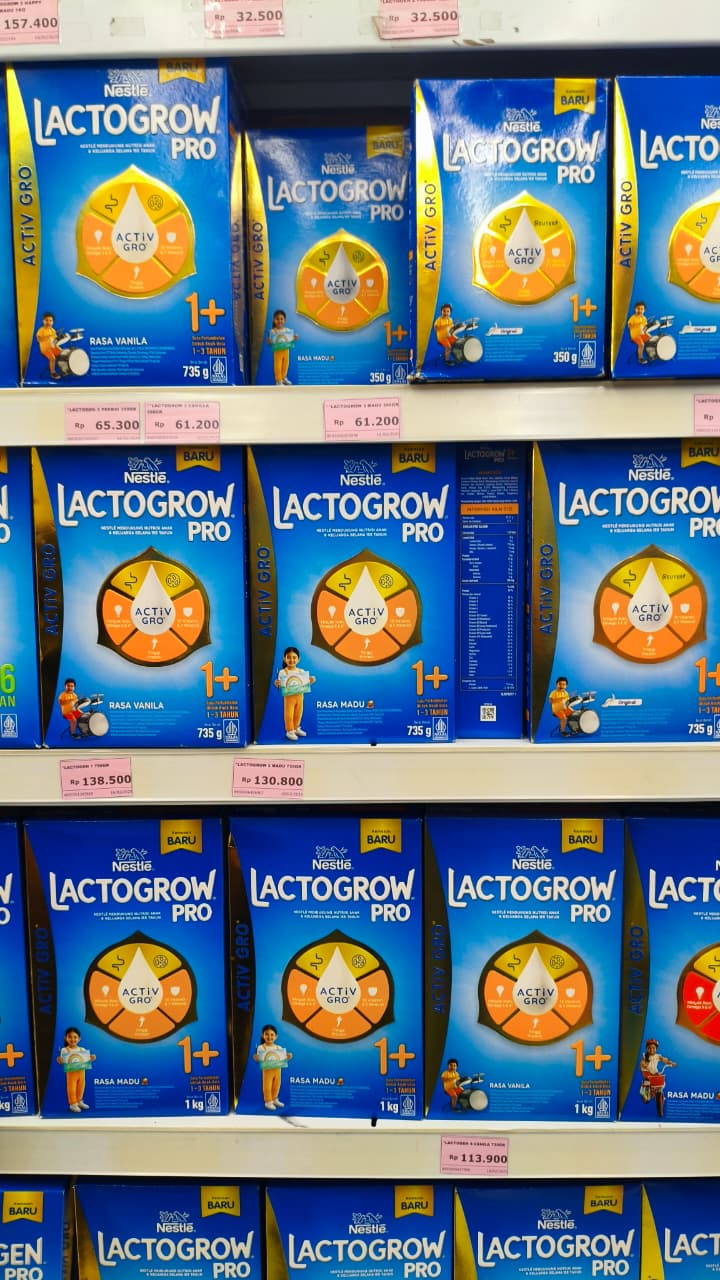Lactogrow Pro: (253, 459, 458, 664), (31, 455, 236, 660), (233, 120, 438, 325), (432, 796, 637, 1001), (238, 796, 432, 969), (30, 795, 224, 968)
